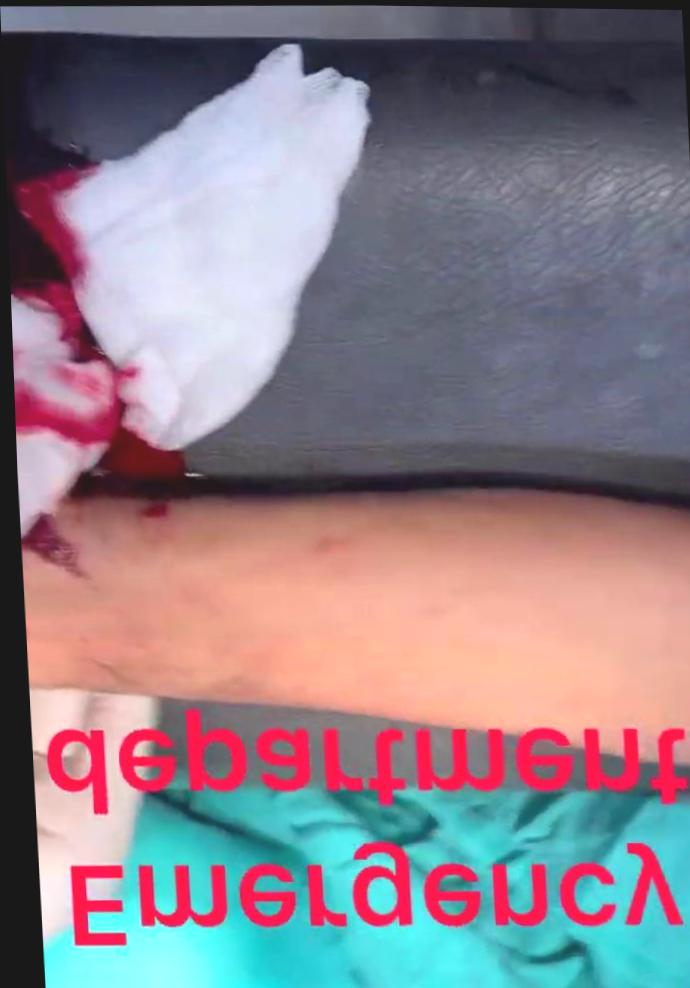Fire: (3, 86, 179, 518), (16, 517, 74, 571)
